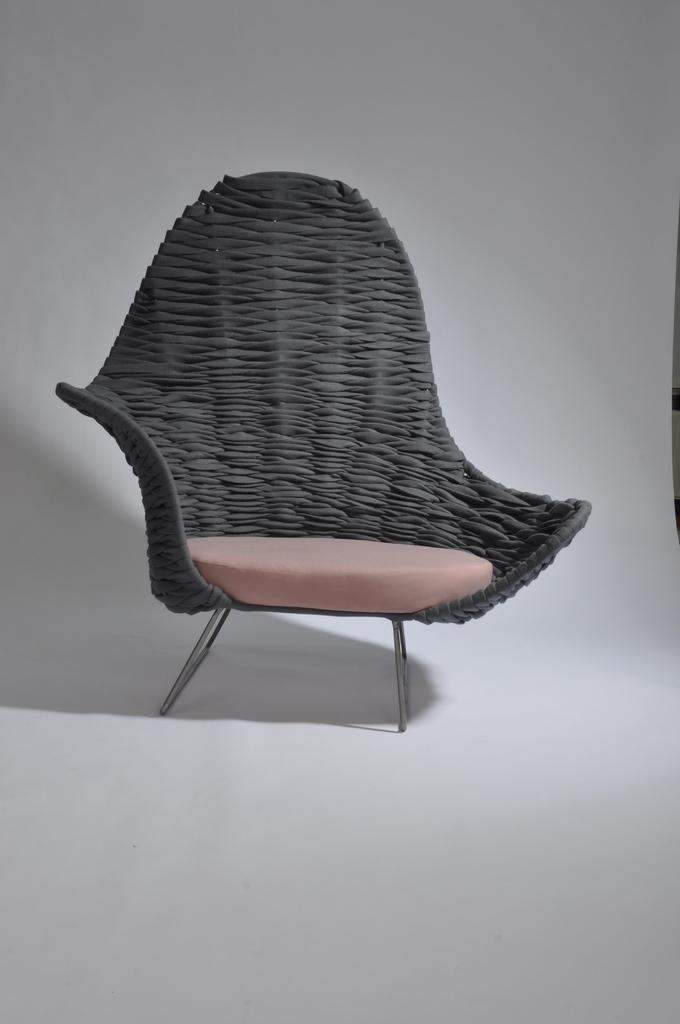Chair: (56, 165, 602, 732)
